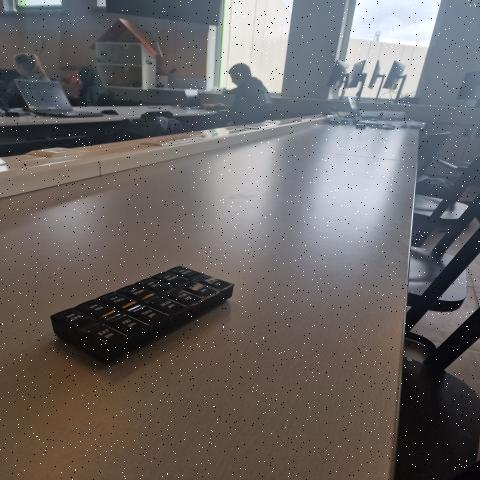Pill-box: (13, 241, 267, 402)
